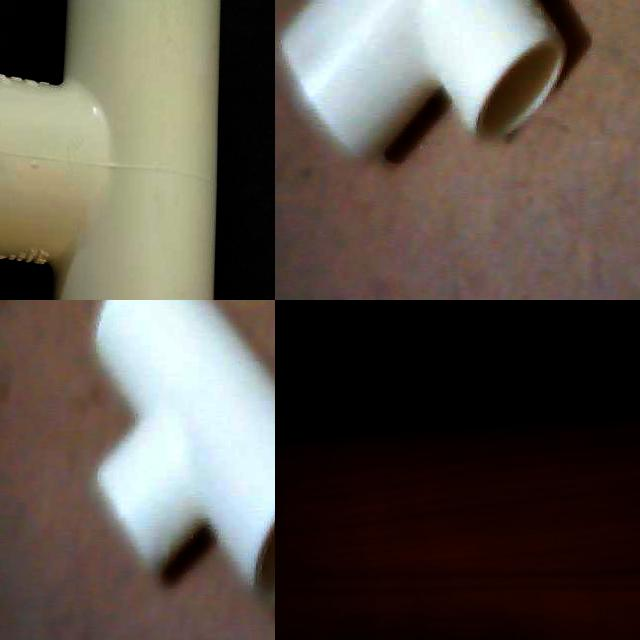T Joint: (0, 0, 222, 300), (91, 300, 275, 614), (275, 0, 567, 160)
